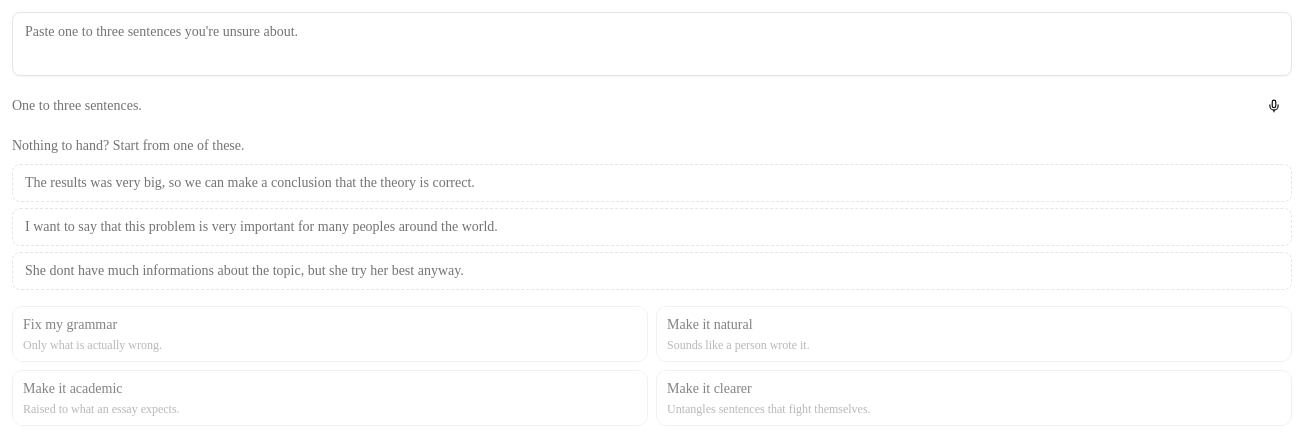
Test case: ComposePanel › dictation › adds what was said to what was already typed
The image size is (1304, 443).
Type "I wrote this myself." into the text box with test id "compose".
click(652, 44); type("I wrote this myself.")  # box x1=12 y1=12 x2=1292 y2=76
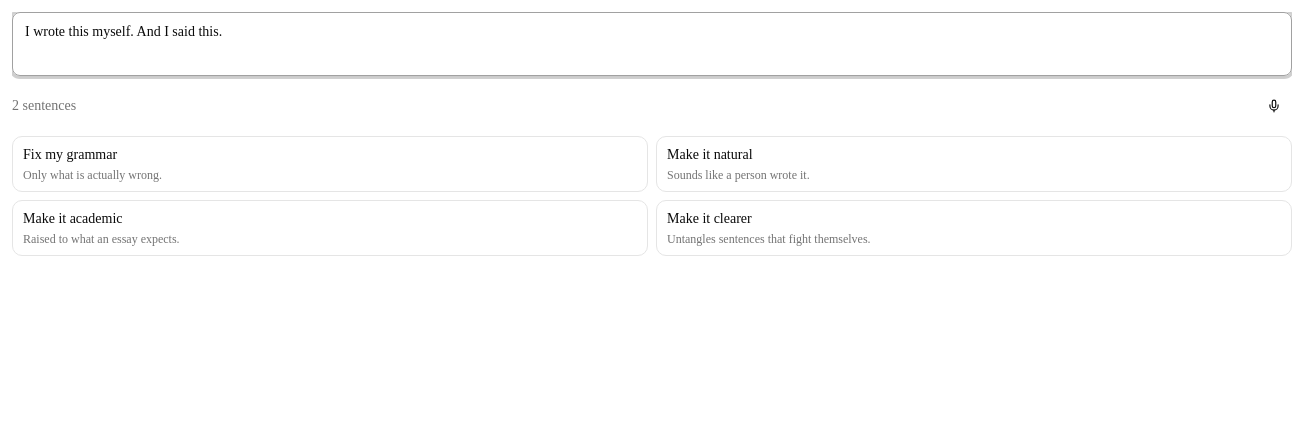
Result: the text box with test id "compose" holds "I wrote this myself. And I said this." at x1=12 y1=12 x2=1292 y2=76
